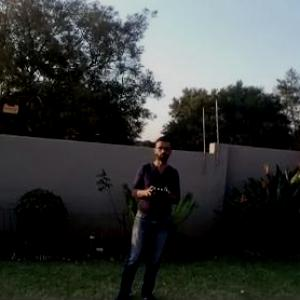follow: (106, 132, 182, 299)
